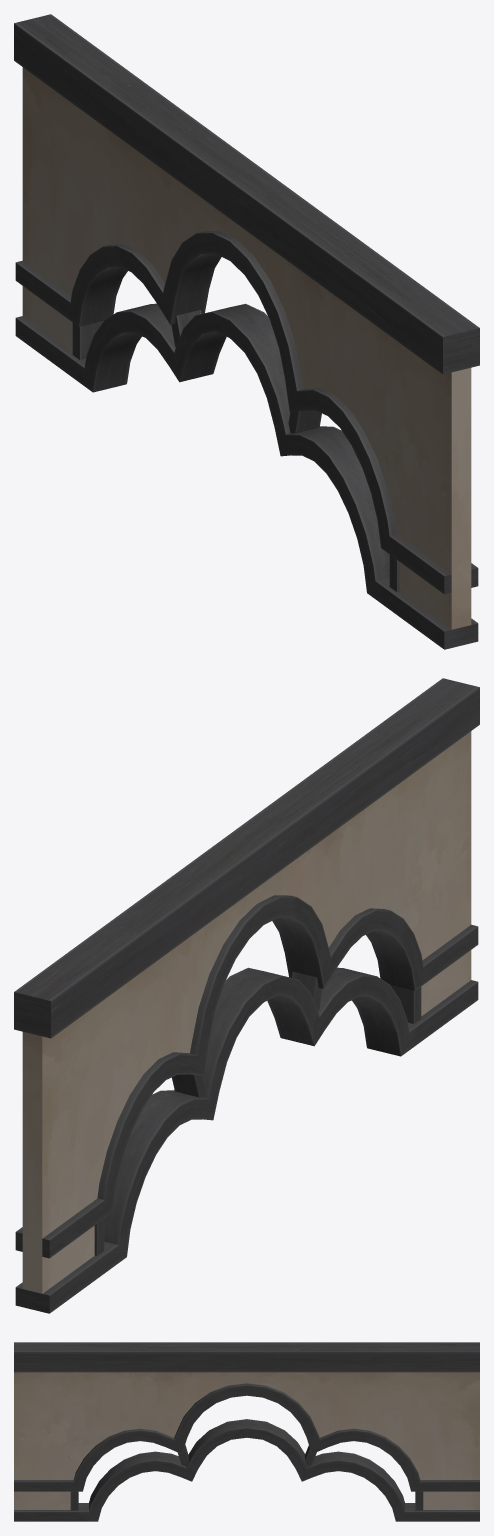
The model's file is Homeworld_Interior_Dq_Room_Wall_03_Vo.fbx.
The picture shows the model from 3 angles, top to bottom: view 1: azimuth 30°, elevation 25°; view 2: azimuth 150°, elevation 25°; view 3: azimuth 270°, elevation 25°; orthographic projection. The views are drawn at different scales.
Parts seen in each view (by area): view 1: Homeworld_Interior_Dq_Room_Wall_03_Vo; view 2: Homeworld_Interior_Dq_Room_Wall_03_Vo; view 3: Homeworld_Interior_Dq_Room_Wall_03_Vo.
Boxes of the visible parts, x1,y1,x2,y2 form: Homeworld_Interior_Dq_Room_Wall_03_Vo: (14, 14, 479, 649); Homeworld_Interior_Dq_Room_Wall_03_Vo: (14, 678, 479, 1313); Homeworld_Interior_Dq_Room_Wall_03_Vo: (14, 1342, 479, 1521).
Size of the model in its own units: 0.25 by 2.01 by 5.
